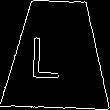L_N: (40, 28, 73, 81)
